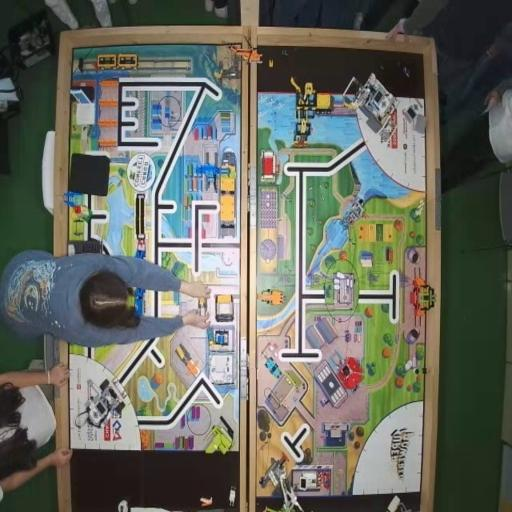lego_robot: (342, 72, 398, 144), (75, 377, 127, 432)
